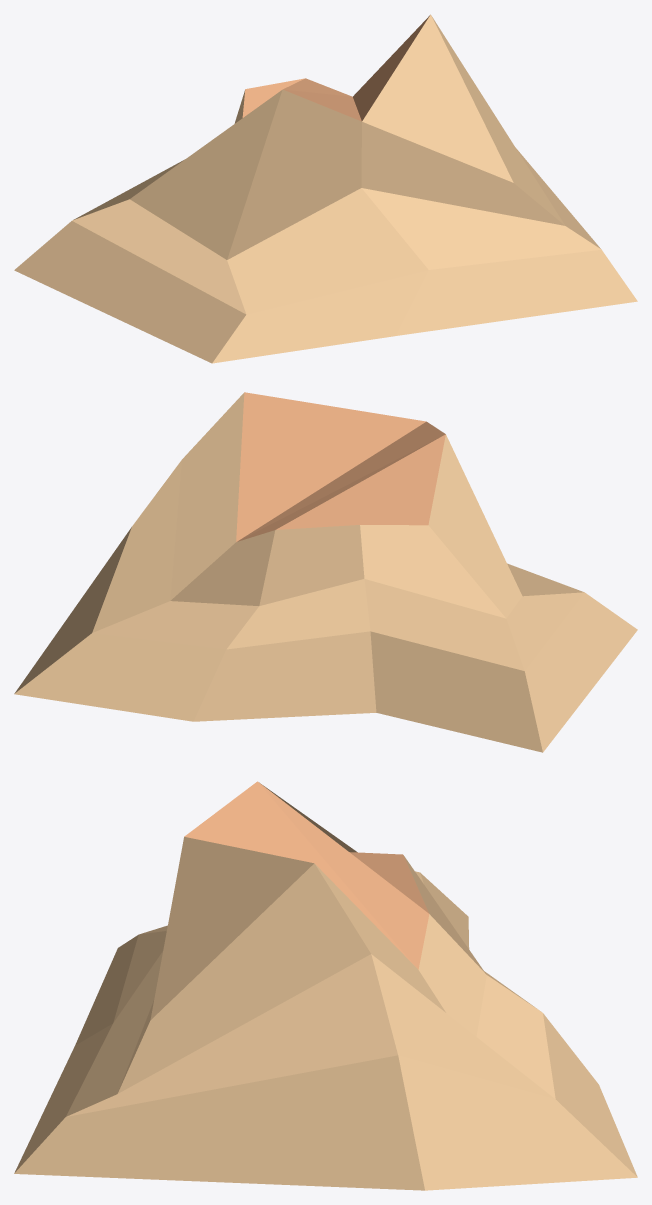
File: Dead Tree 6.fbx
3 renders of one model, top to bottom at view 1: azimuth 30°, elevation 25°; view 2: azimuth 150°, elevation 25°; view 3: azimuth 270°, elevation 25°, orthographic. The views are drawn at different scales.
Visible parts, largest first — view 1: Dead Tree 6; view 2: Dead Tree 6; view 3: Dead Tree 6.
Part boxes in pixels (bbox=[...]): Dead Tree 6: bbox=[14, 14, 637, 363]; Dead Tree 6: bbox=[14, 392, 637, 752]; Dead Tree 6: bbox=[14, 781, 637, 1190].
Size of the model in its own units: 54.65 by 24.34 by 52.61.
